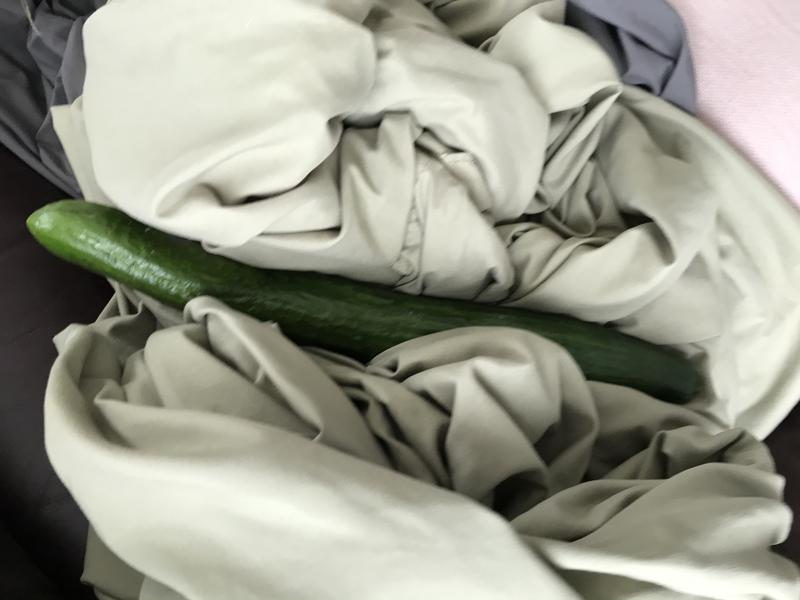cucumber: (8, 175, 730, 418)
